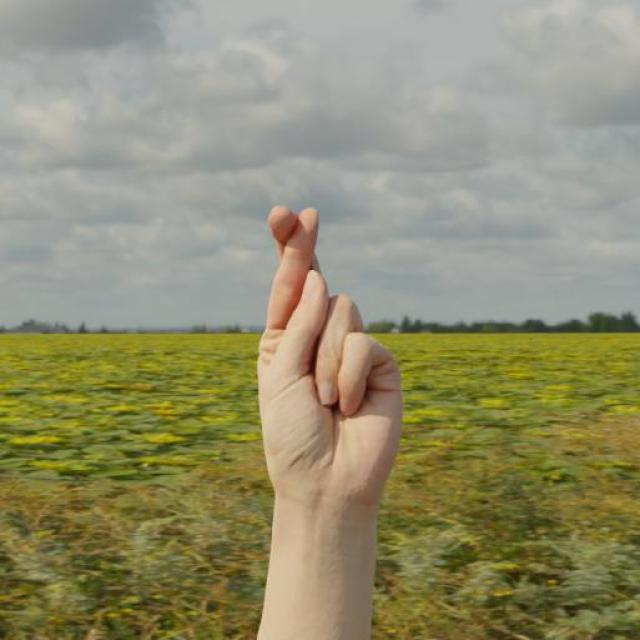R: (252, 200, 408, 519)
